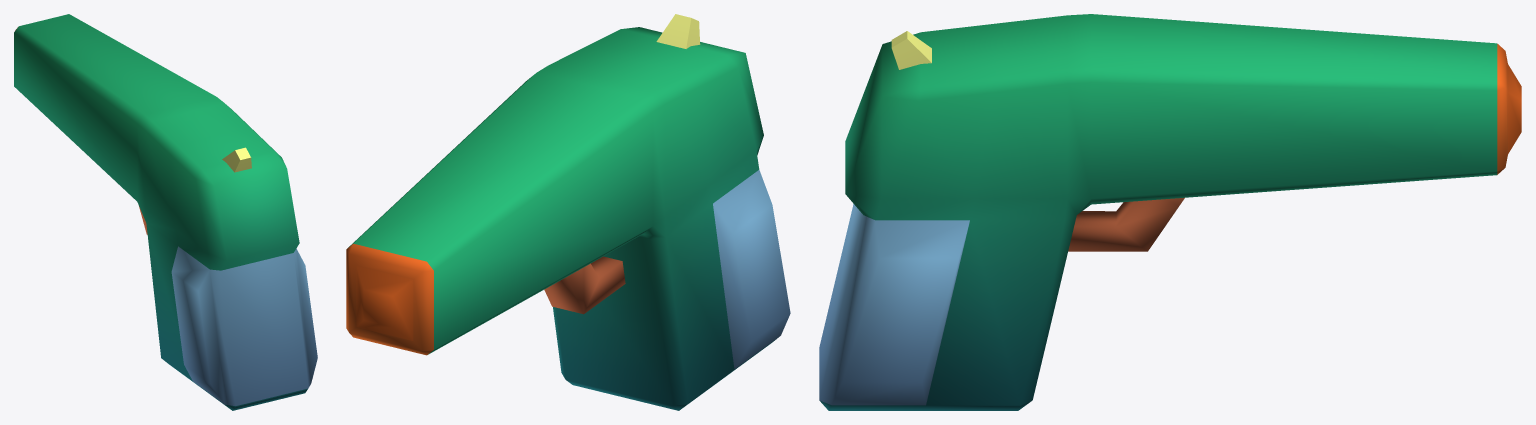
Rendered from WaterPistol.fbx.
The picture shows the model from 3 angles, left to right: view 1: azimuth 30°, elevation 25°; view 2: azimuth 150°, elevation 25°; view 3: azimuth 270°, elevation 25°; orthographic projection. The views are drawn at different scales.
Parts seen in each view (by area): view 1: Water_Pistol; view 2: Water_Pistol; view 3: Water_Pistol.
Boxes of the visible parts, bbox=[...] form: Water_Pistol: bbox=[14, 14, 317, 410]; Water_Pistol: bbox=[346, 14, 790, 410]; Water_Pistol: bbox=[819, 14, 1521, 410].
Size of the model in its own units: 172 by 360 by 658.
